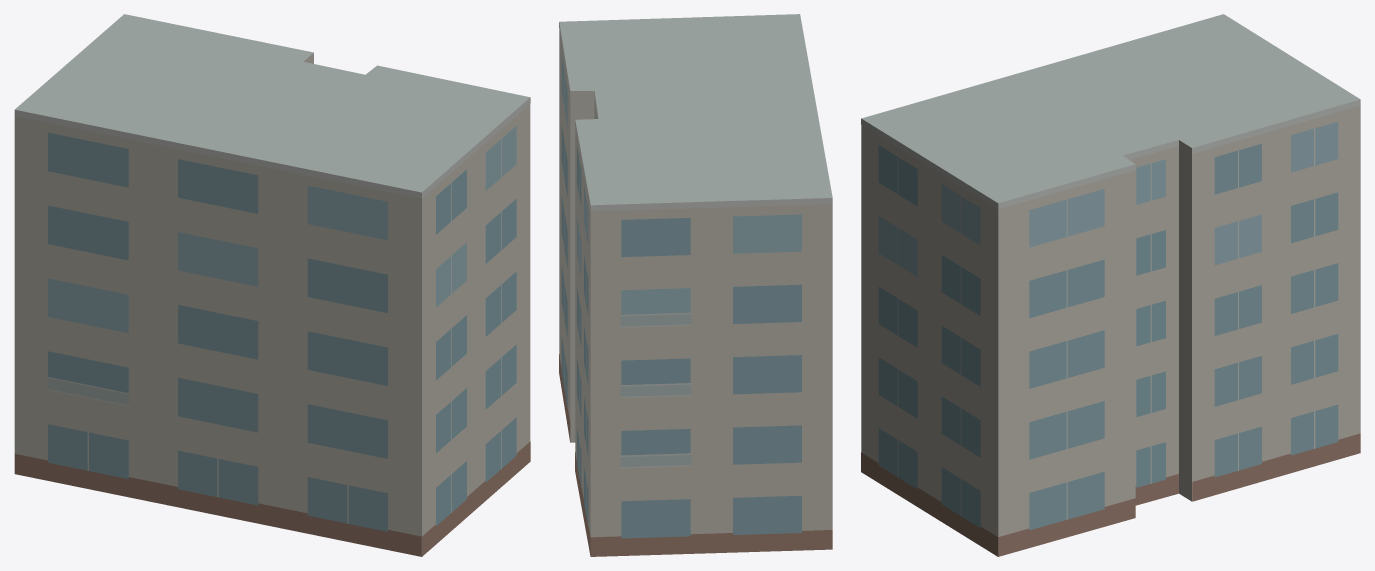
Rendered from survey-upis-32946455.glb.
The picture shows the model from 3 angles, left to right: view 1: azimuth 30°, elevation 25°; view 2: azimuth 150°, elevation 25°; view 3: azimuth 270°, elevation 25°; orthographic projection. The views are drawn at different scales.
Visible parts, largest first — view 1: survey-upis-32946455.tmp; view 2: survey-upis-32946455.tmp; view 3: survey-upis-32946455.tmp.
Boxes of the visible parts, x1=… form: survey-upis-32946455.tmp: x1=14, y1=14, x2=530, y2=556; survey-upis-32946455.tmp: x1=559, y1=14, x2=832, y2=556; survey-upis-32946455.tmp: x1=861, y1=14, x2=1360, y2=556.
Bounding box in the file's own units: 16.19 × 14.1 × 18.06.
